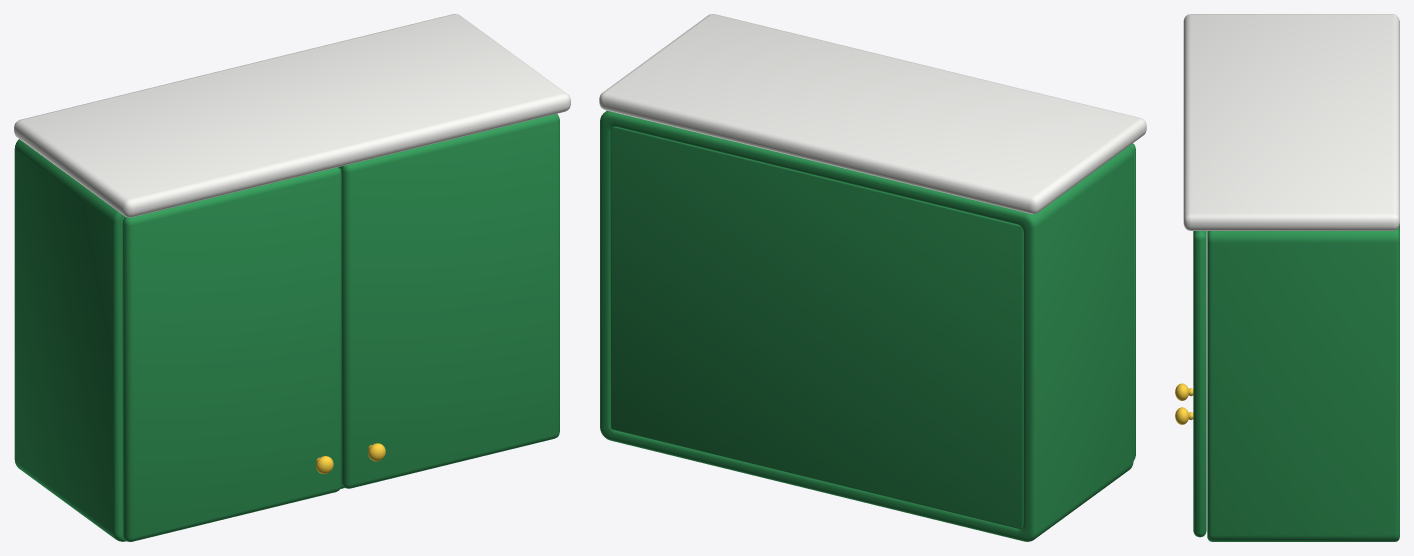
File: armario_parede_2portas_verde.glb
3 renders of one model, left to right at view 1: azimuth 30°, elevation 25°; view 2: azimuth 150°, elevation 25°; view 3: azimuth 270°, elevation 25°, orthographic. The views are drawn at different scales.
Visible parts, largest first — view 1: armario_parede_2portas_verde, porta_1, porta_2; view 2: armario_parede_2portas_verde, porta_1; view 3: armario_parede_2portas_verde, porta_2.
Part boxes in pixels (x1=…): armario_parede_2portas_verde: x1=14, y1=14, x2=570, y2=541; porta_1: x1=122, y1=167, x2=341, y2=541; porta_2: x1=341, y1=114, x2=559, y2=488; armario_parede_2portas_verde: x1=599, y1=14, x2=1146, y2=541; porta_1: x1=1129, y1=143, x2=1135, y2=460; armario_parede_2portas_verde: x1=1183, y1=14, x2=1399, y2=541; porta_2: x1=1175, y1=231, x2=1206, y2=537.
Size of the model in its own units: 0.798 by 0.6 by 0.37.
Materials: 1 (1 with a texture image).
